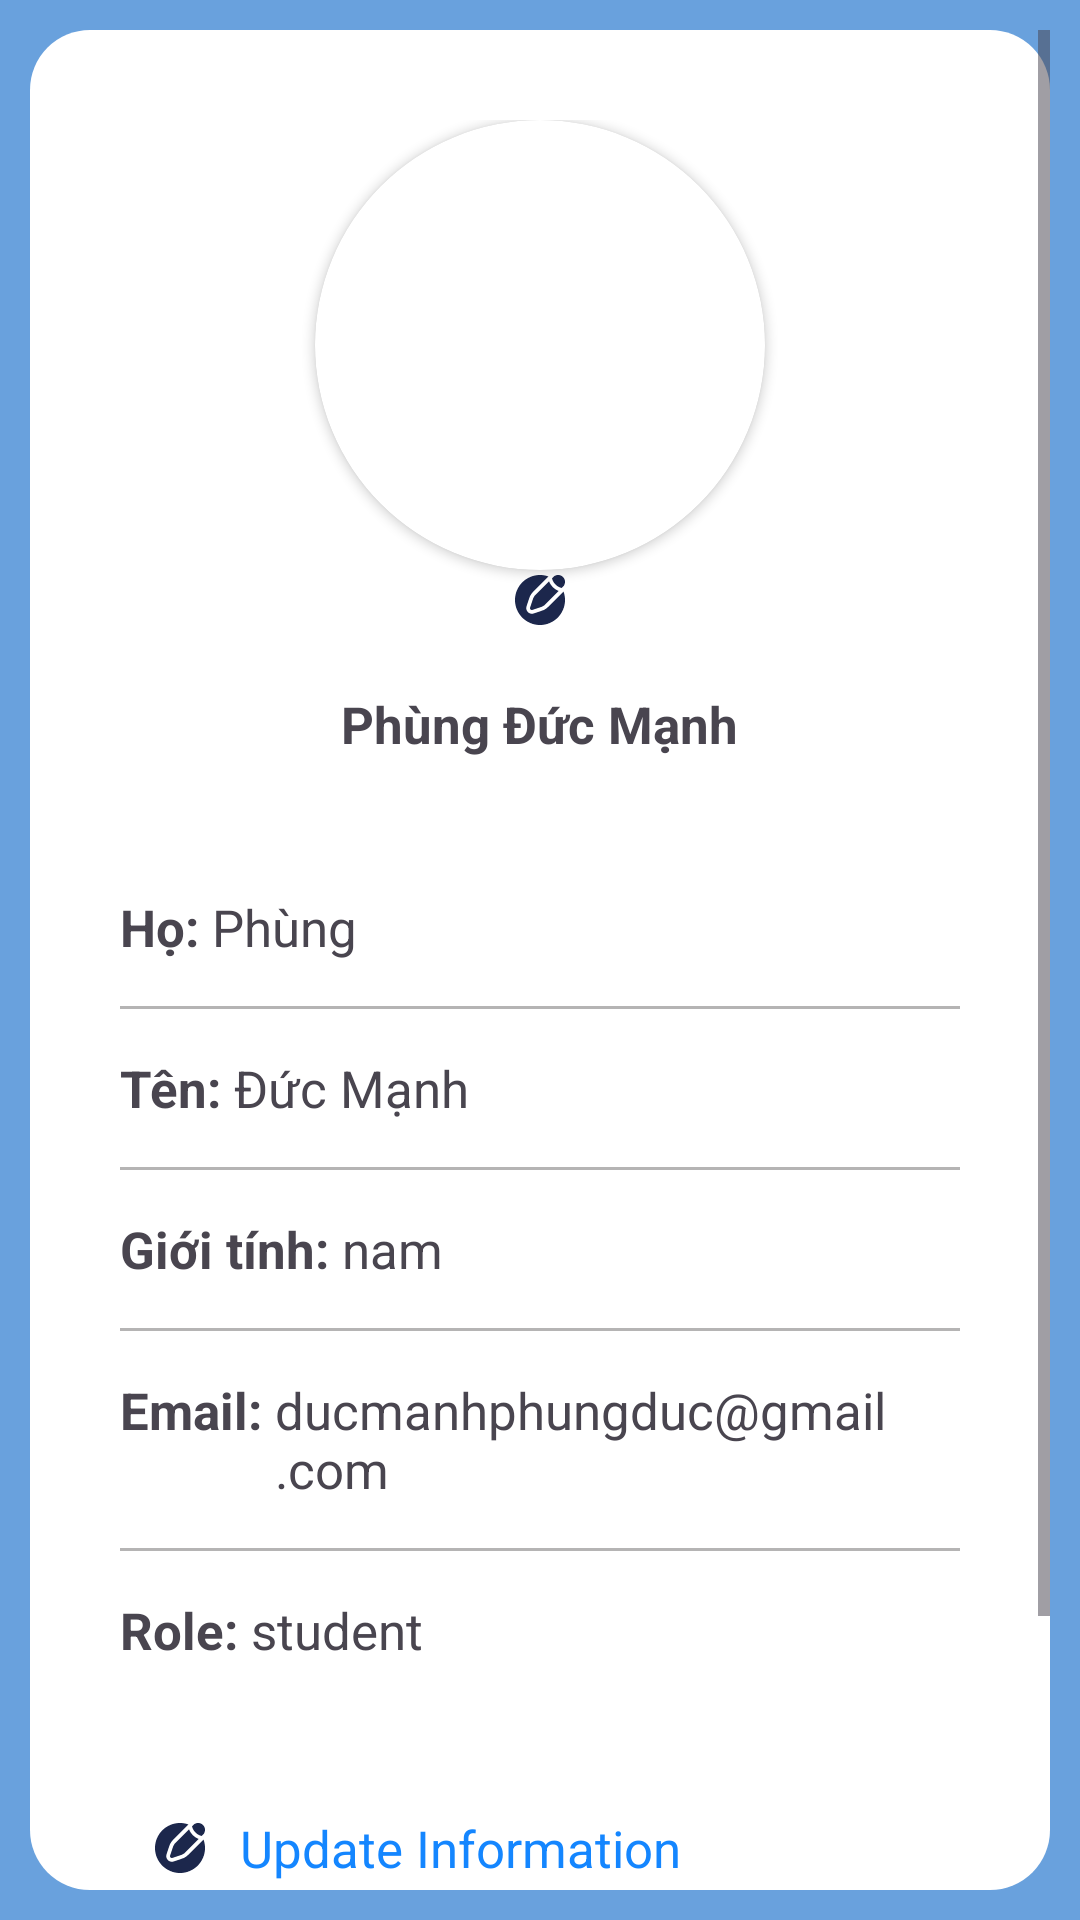

Locate icon controls on the screen. Image size 1080 x 1920, boxes as BBox(x1, y1, x2, y2).
pen: BBox(515, 575, 565, 625), BBox(155, 1823, 205, 1873)
